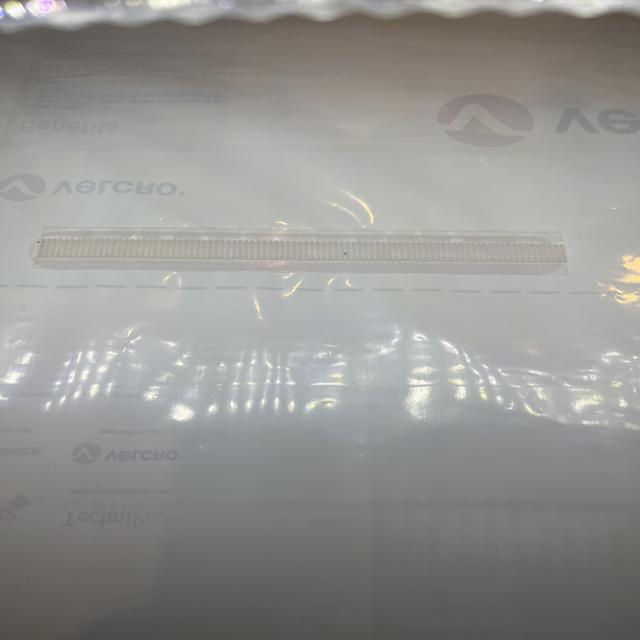zip_s: (27, 222, 574, 280)
